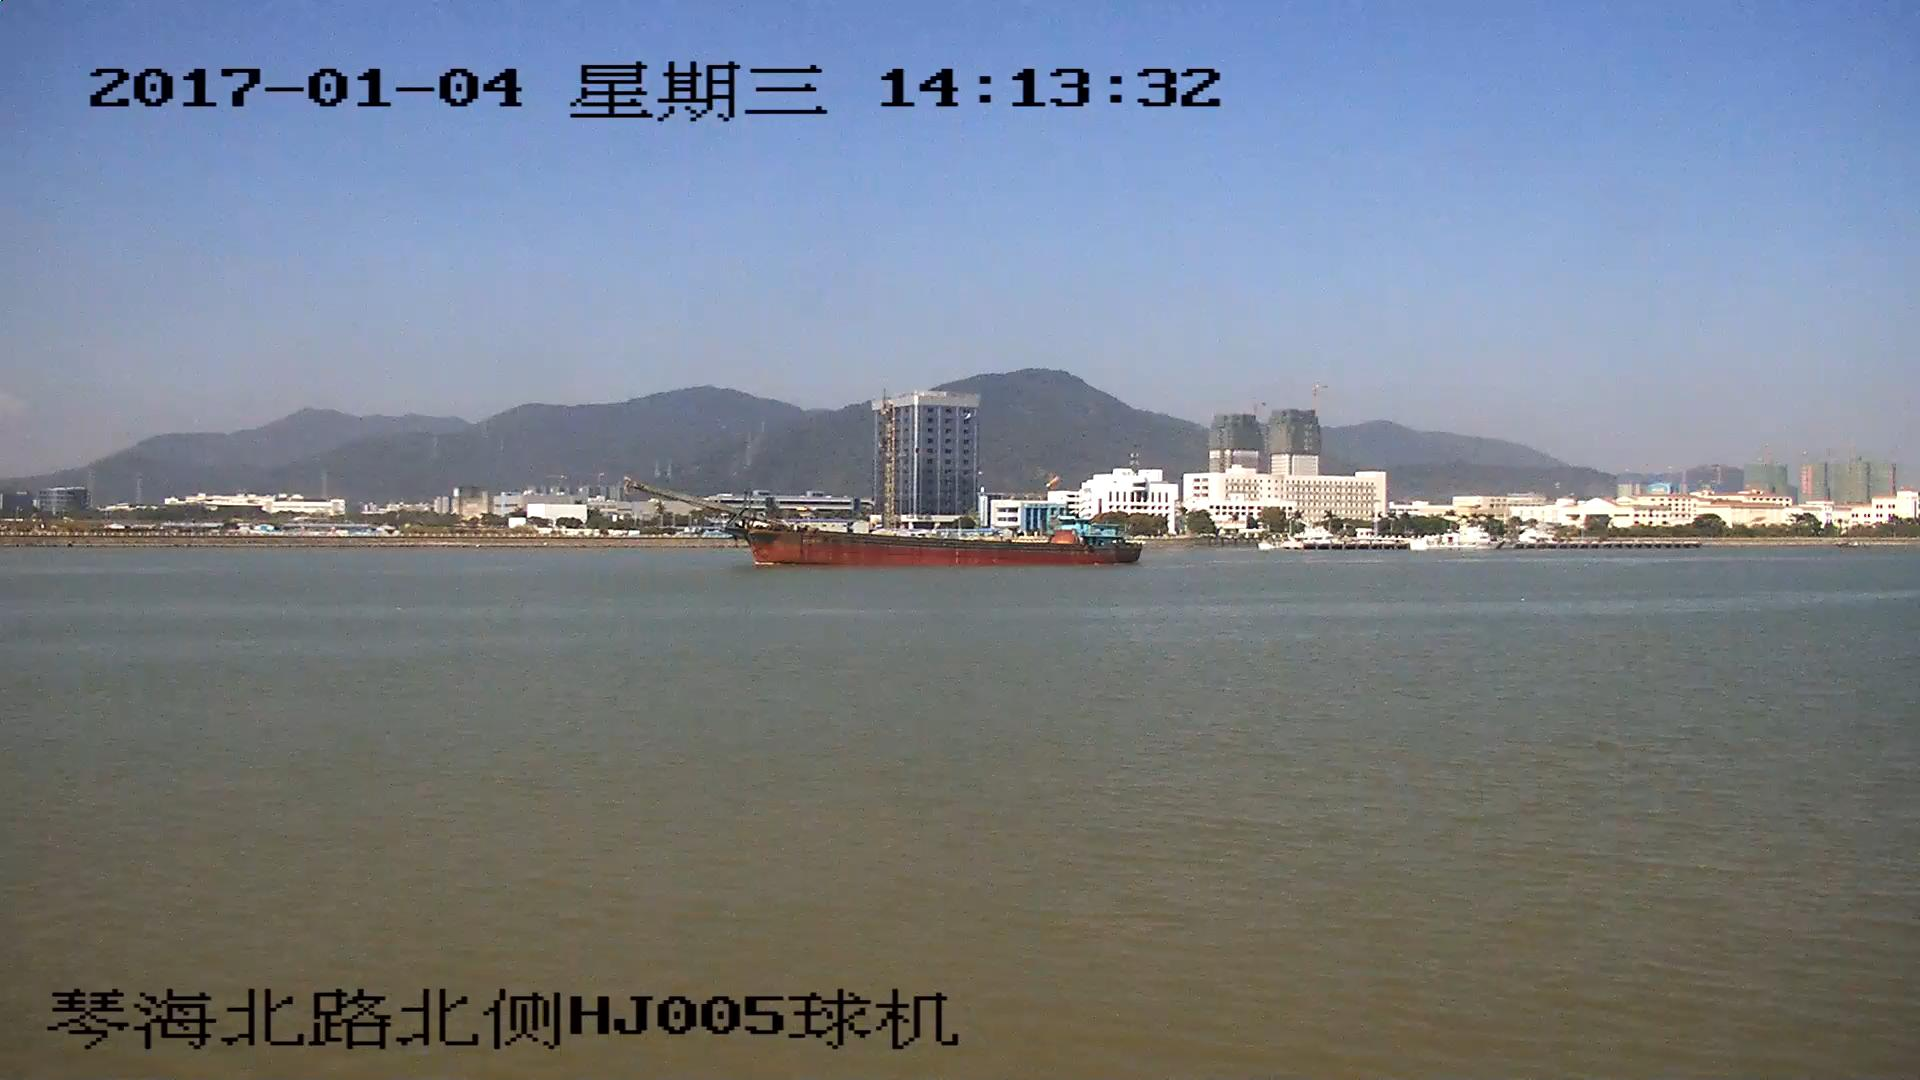bulk cargo carrier: (632, 483, 1139, 567)
